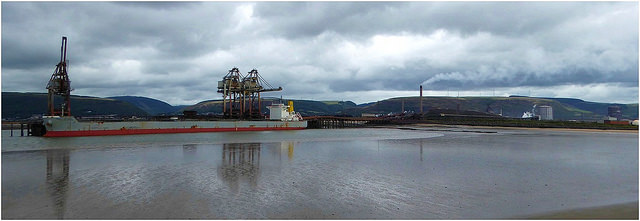bulk carrier: (46, 95, 308, 138)
